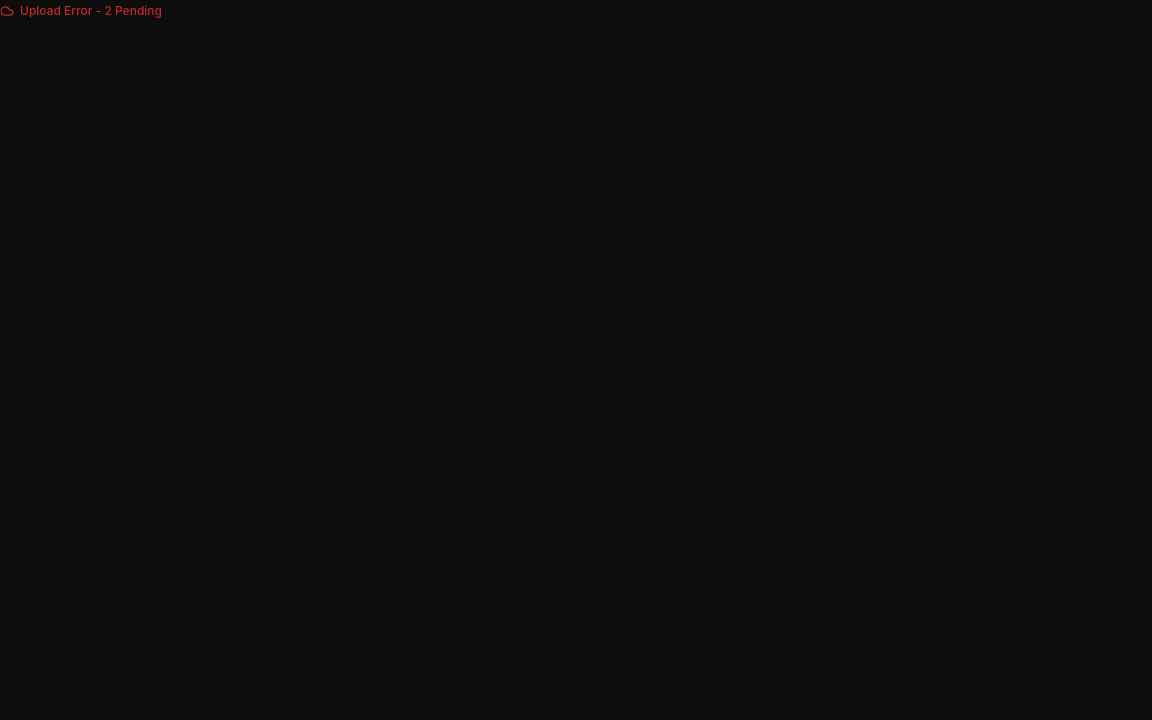
Test case: TaskSyncDiagnosticsDialog › shows transfer failures separately and renders recent content-free conflict receipts
Click the button named "Task Sync Status: Upload Error - 2 Pending. Open Synchronization Details" at (81, 11), box 0,3 -> 162,19
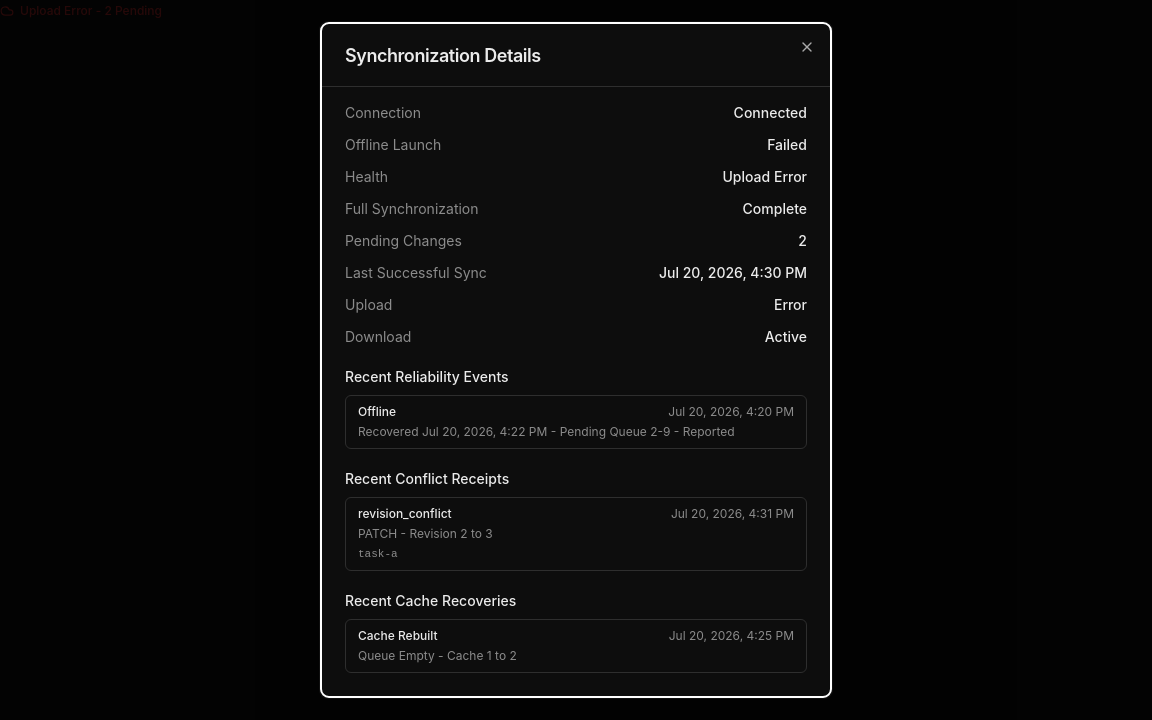
Check: the text "2" is shown, box 798,232 -> 807,249
Check: the text "Failed" is shown, box 767,136 -> 807,153
Check: the text "Error" is shown, box 774,296 -> 807,313
